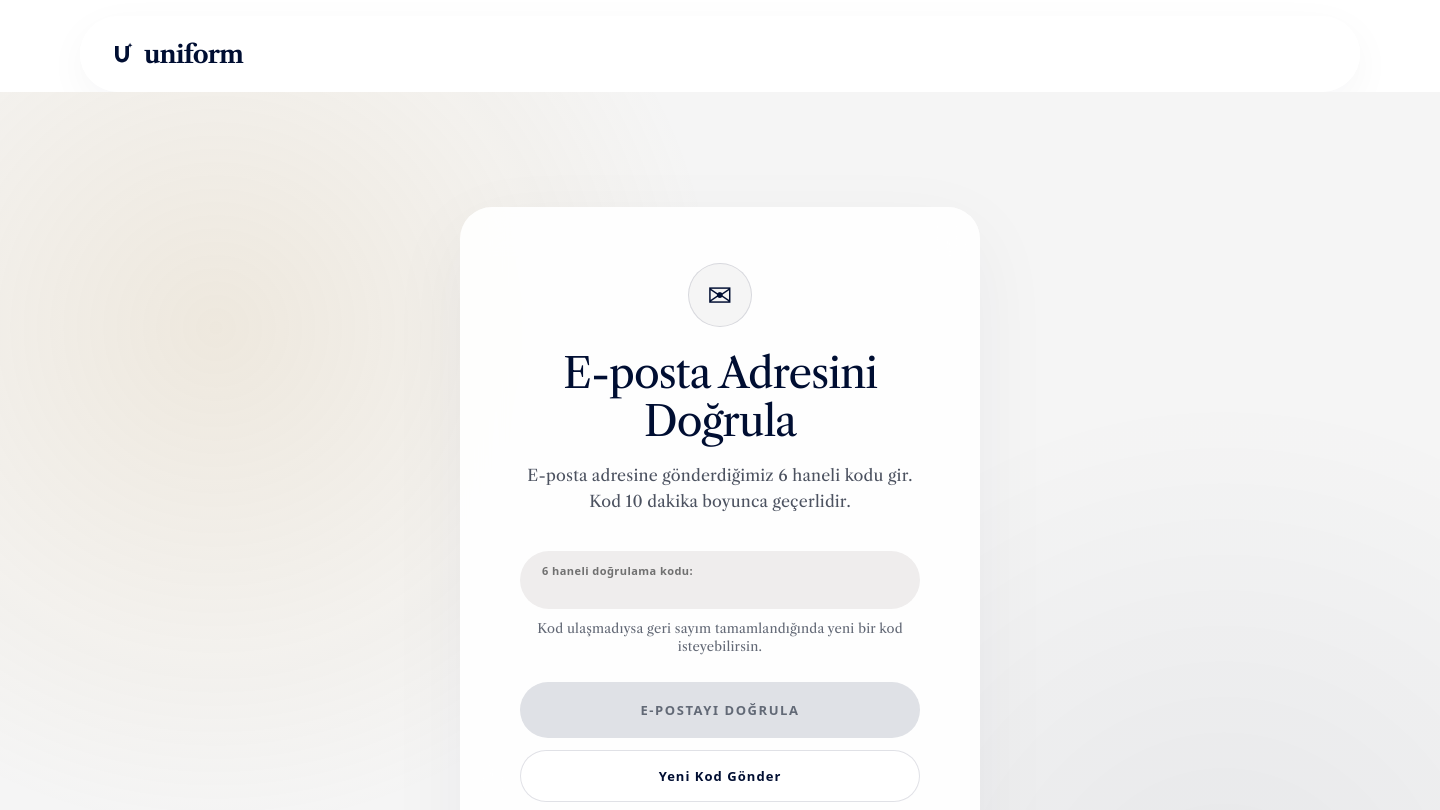
it: email verification flow › accepts only six numeric digits
The image size is (1440, 810).
Expected: the button "E-postayı Doğrula" is disabled, [520,682,920,738]
Type "12a34-567" into the field labelled "6 haneli doğrulama kodu:" at (720, 580), box [520,551,920,609]
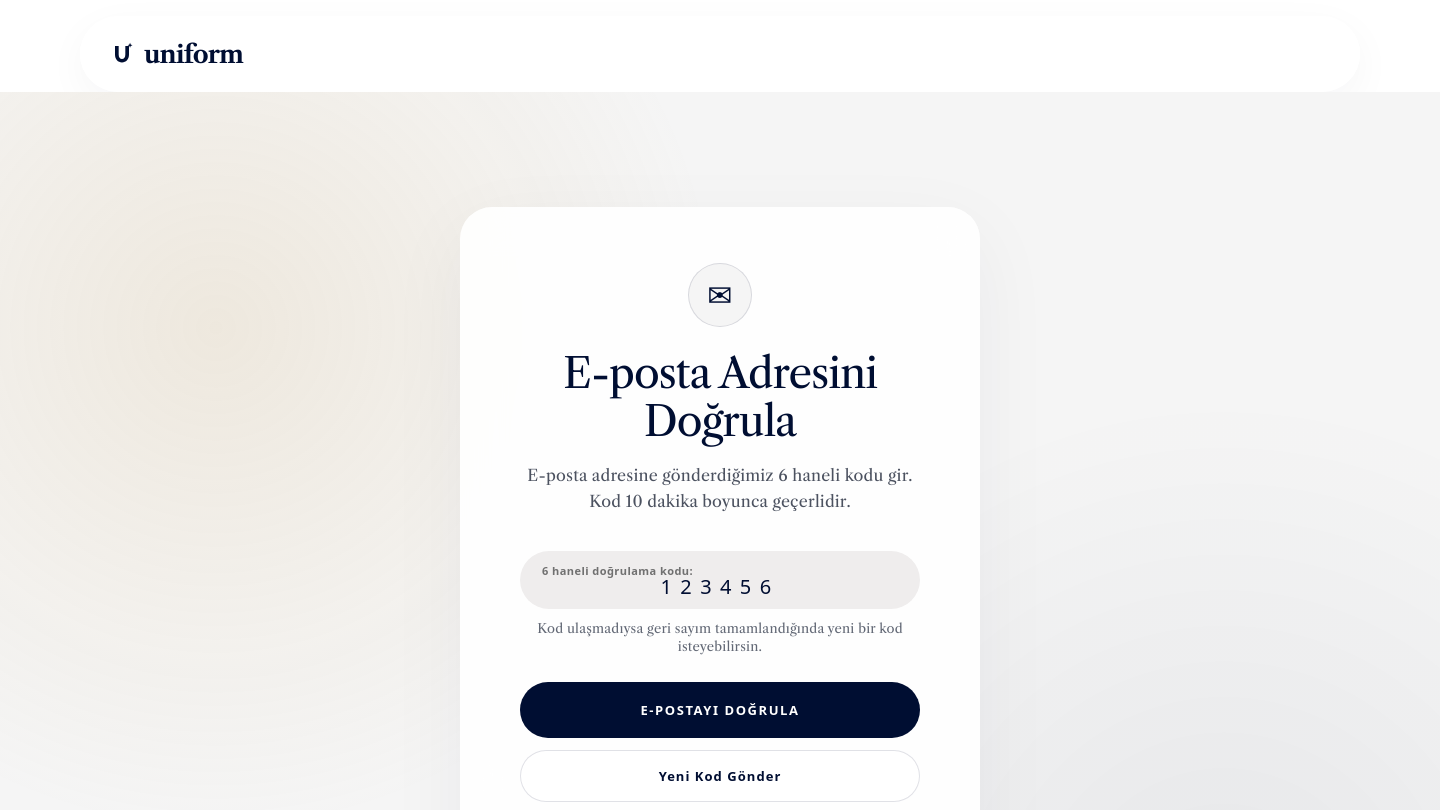
Expected: the field labelled "6 haneli doğrulama kodu:" holds "123456", [520,551,920,609]
Expected: the button "E-postayı Doğrula" is enabled, [520,682,920,738]
